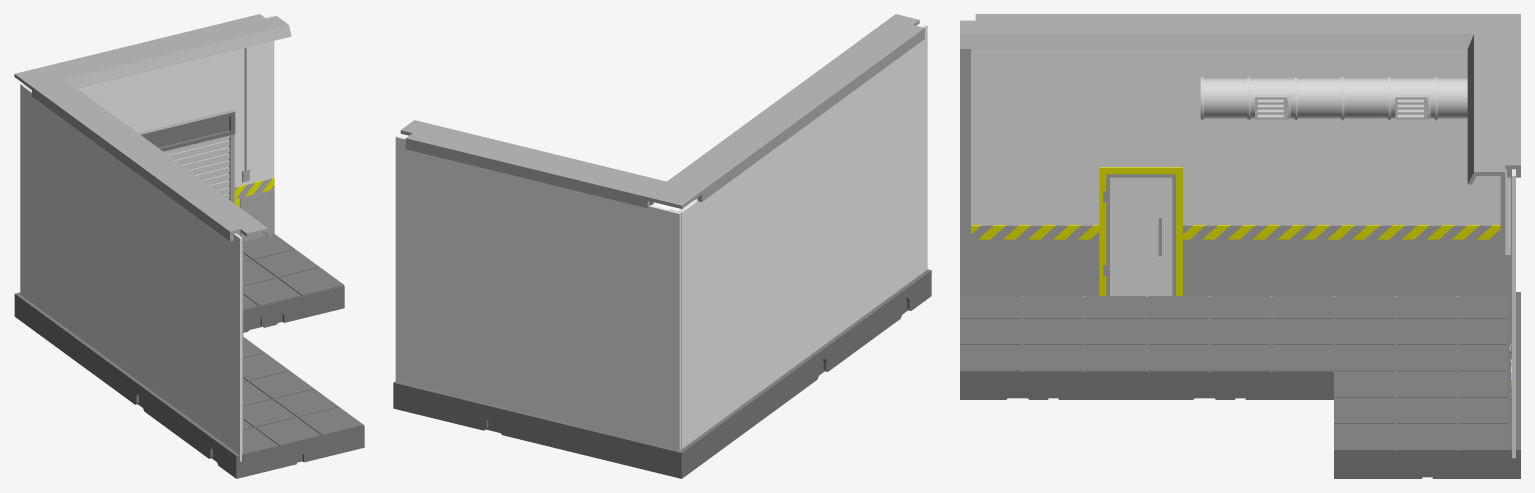
Rendered from garage_eckprofil_links.glb.
3 renders of one model, left to right at view 1: azimuth 30°, elevation 25°; view 2: azimuth 150°, elevation 25°; view 3: azimuth 270°, elevation 25°, orthographic. The views are drawn at different scales.
Parts seen in each view (by area): view 1: Seitenwand_Garage_kopie-1, Werkstattboden_kopie-1, Wand_Garage_kopie-1, Artika_Winkel_kopie-1; view 2: Wand_Garage_kopie-1, Seitenwand_Garage_kopie-1, Artika_Winkel_kopie-1, Werkstattboden_kopie-1; view 3: Seitenwand_Garage_kopie-1, Werkstattboden_kopie-1, Artika_Winkel_kopie-1, Lüftung_kopie-1, Wand_Garage_kopie-1.
Boxes of the visible parts, x1,y1,x2,y2 form: Seitenwand_Garage_kopie-1: (21, 85, 243, 461); Werkstattboden_kopie-1: (14, 234, 364, 478); Wand_Garage_kopie-1: (20, 16, 274, 294); Artika_Winkel_kopie-1: (14, 14, 291, 241); Wand_Garage_kopie-1: (395, 136, 681, 450); Seitenwand_Garage_kopie-1: (678, 24, 927, 449); Artika_Winkel_kopie-1: (400, 14, 924, 208); Werkstattboden_kopie-1: (393, 269, 931, 478); Seitenwand_Garage_kopie-1: (960, 20, 1506, 296); Werkstattboden_kopie-1: (960, 292, 1520, 478); Artika_Winkel_kopie-1: (960, 14, 1520, 184); Lüftung_kopie-1: (1200, 76, 1467, 120); Wand_Garage_kopie-1: (1505, 169, 1515, 458).
Size of the model in its own units: 0.1201 by 0.1087 by 0.18.
